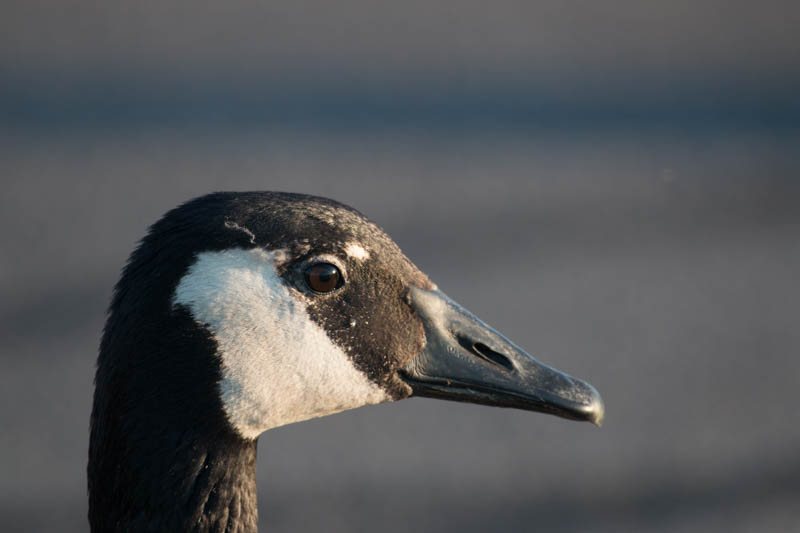goose-head: (95, 190, 605, 443)
